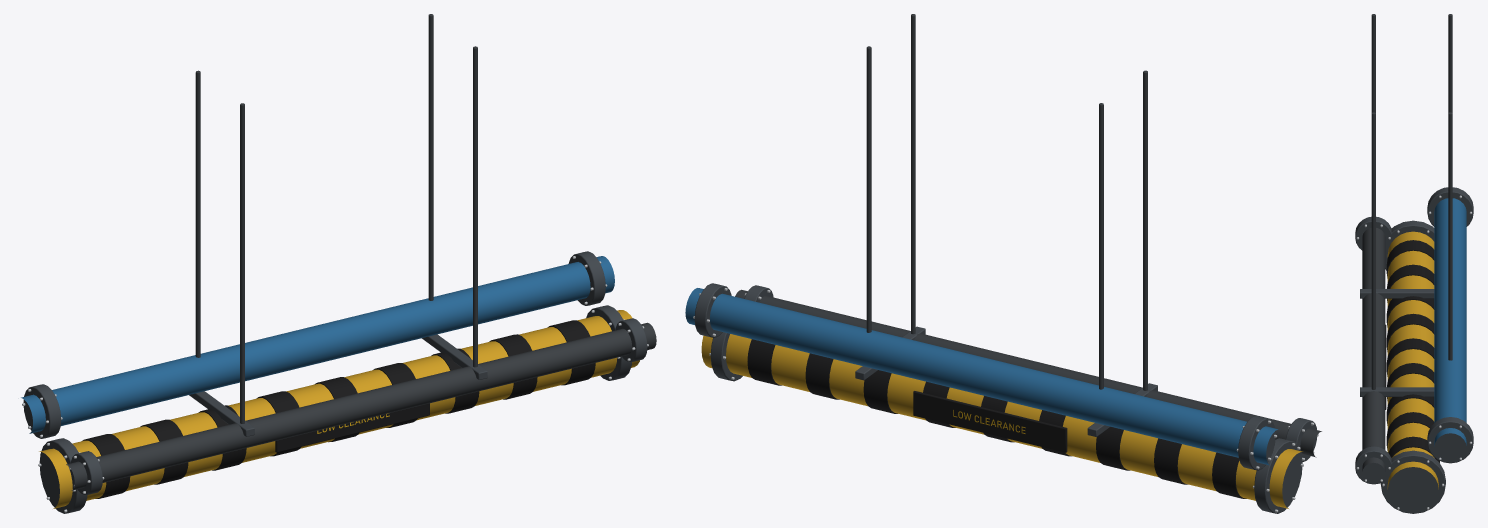
File: pipes_low.glb
3 renders of one model, left to right at view 1: azimuth 30°, elevation 25°; view 2: azimuth 150°, elevation 25°; view 3: azimuth 270°, elevation 25°, orthographic. The views are drawn at different scales.
Visible parts, largest first — view 1: pipes_low_pipes, pipes_low_detail; view 2: pipes_low_pipes, pipes_low_detail; view 3: pipes_low_pipes, pipes_low_detail.
Boxes of the visible parts, bbox=[...] form: pipes_low_pipes: bbox=[21, 256, 656, 508]; pipes_low_detail: bbox=[22, 14, 648, 513]; pipes_low_pipes: bbox=[685, 288, 1321, 508]; pipes_low_detail: bbox=[693, 14, 1318, 513]; pipes_low_pipes: bbox=[1362, 198, 1466, 489]; pipes_low_detail: bbox=[1355, 14, 1473, 513].
Size of the model in its own units: 2.5 by 1.58 by 0.51.
